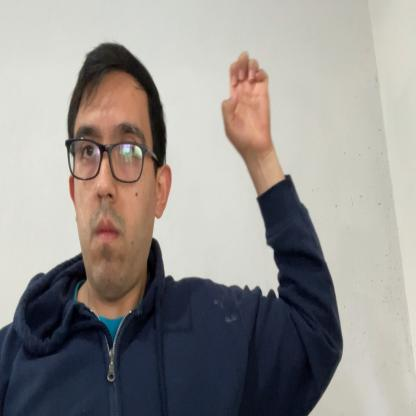E: (222, 52, 270, 154)
